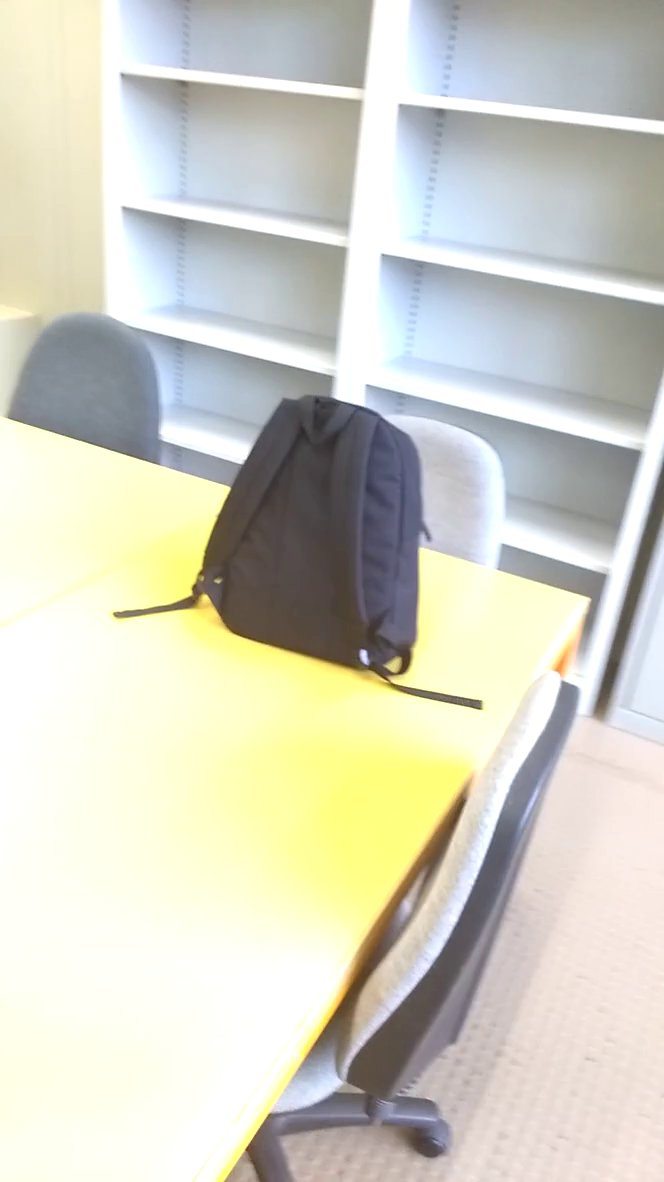bag: (112, 384, 443, 702)
chair: (255, 664, 602, 1161), (2, 306, 174, 492)
